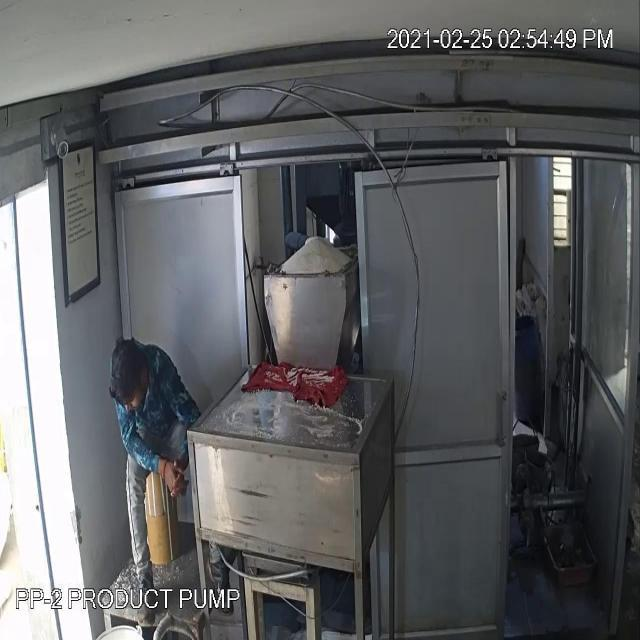no hat: (100, 332, 150, 412)
